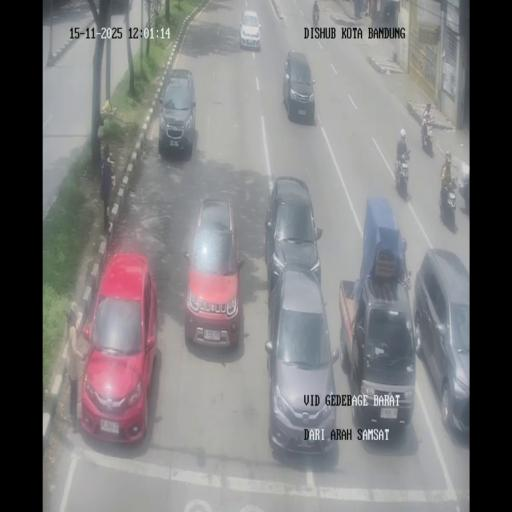car: (78, 252, 158, 443), (265, 266, 339, 458), (414, 250, 470, 438), (282, 50, 316, 124), (239, 9, 261, 50)
motorcycle: (439, 176, 457, 226), (394, 149, 411, 196), (458, 172, 470, 213), (421, 118, 434, 154), (312, 6, 320, 25), (369, 0, 376, 20), (360, 0, 368, 16)
truck: (339, 200, 417, 437)
